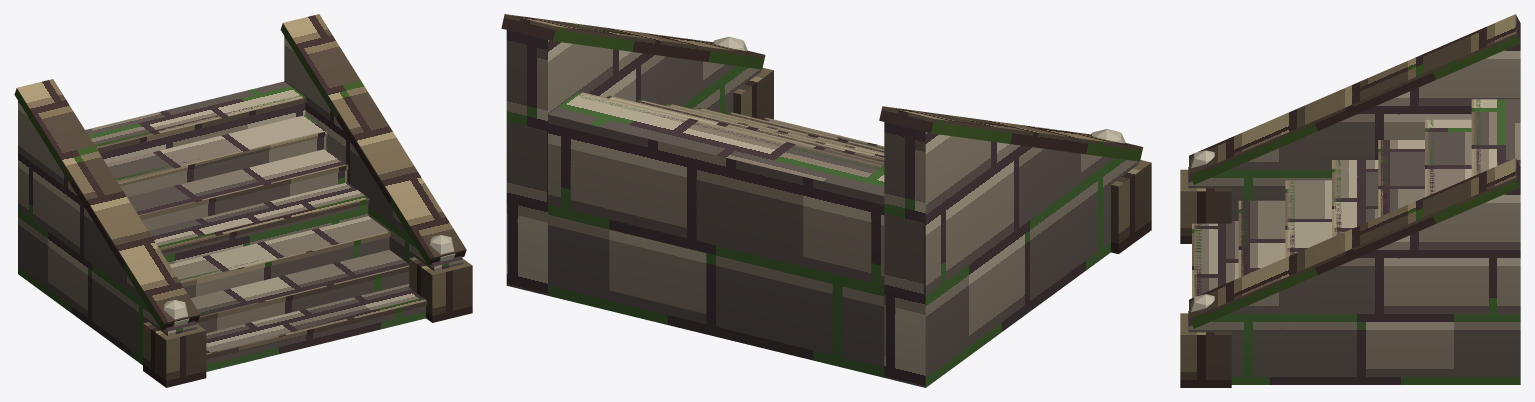
File: scene_stair_seat_dais.glb
3 renders of one model, left to right at view 1: azimuth 30°, elevation 25°; view 2: azimuth 150°, elevation 25°; view 3: azimuth 270°, elevation 25°, orthographic. The views are drawn at different scales.
Parts seen in each view (by area): view 1: scene_stair_seat_dais; view 2: scene_stair_seat_dais; view 3: scene_stair_seat_dais.
Part boxes in pixels (box(x1,y1,x2,y2)): scene_stair_seat_dais: box(14, 14, 472, 387); scene_stair_seat_dais: box(501, 14, 1151, 387); scene_stair_seat_dais: box(1180, 14, 1520, 387).
Bounding box in the file's own units: 3.36 × 1.98 × 2.92.
Materials: 2 (1 with a texture image).
